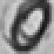correct: (3, 0, 54, 54)
